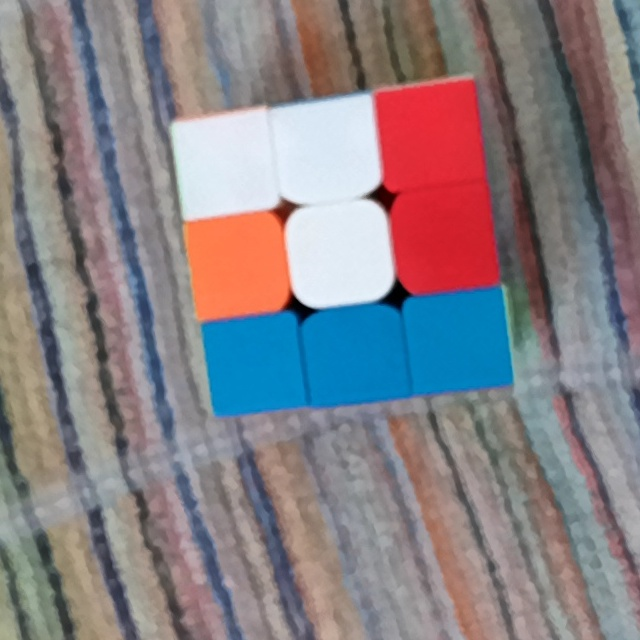tile: (298, 213, 383, 295), (390, 93, 471, 177), (198, 222, 279, 306), (417, 302, 501, 382), (284, 109, 367, 189), (185, 126, 267, 206), (315, 315, 397, 395), (408, 196, 486, 279), (213, 325, 294, 403)
